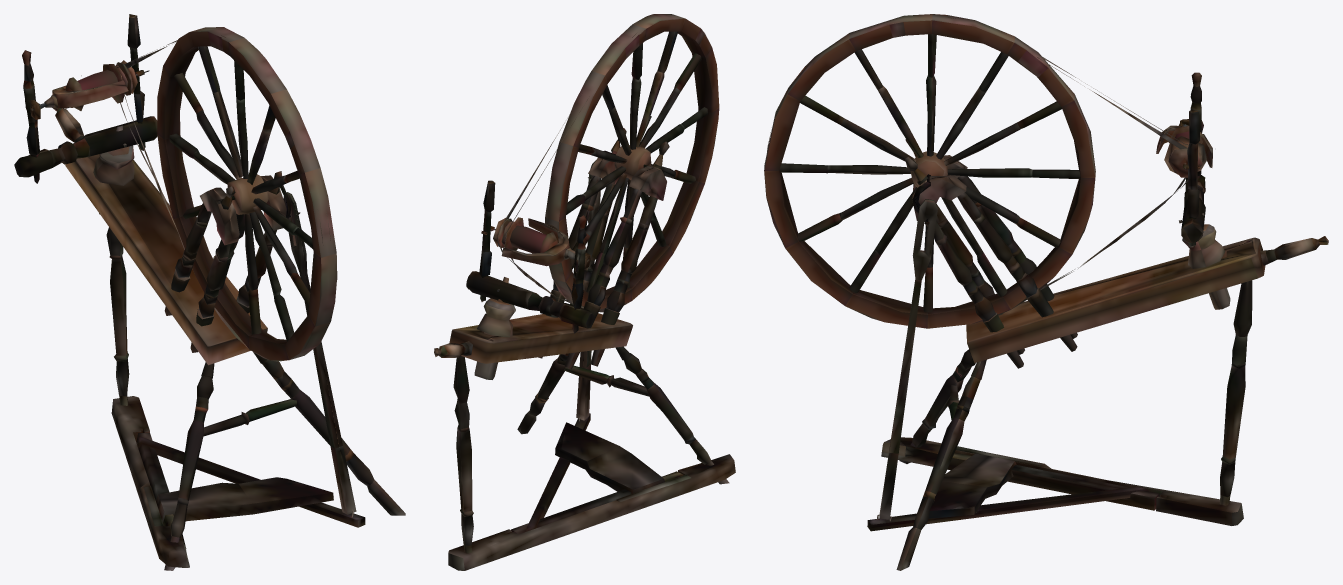
Rendered from design-spinning-wheel-01.glb.
The picture shows the model from 3 angles, left to right: view 1: azimuth 30°, elevation 25°; view 2: azimuth 150°, elevation 25°; view 3: azimuth 270°, elevation 25°; orthographic projection. The views are drawn at different scales.
Visible parts, largest first — view 1: spinning_wheel_01; view 2: spinning_wheel_01; view 3: spinning_wheel_01.
Part boxes in pixels (x1=…): spinning_wheel_01: x1=14, y1=14, x2=405, y2=570; spinning_wheel_01: x1=434, y1=14, x2=735, y2=570; spinning_wheel_01: x1=764, y1=14, x2=1328, y2=570.
Bounding box in the file's own units: 0.4893 × 0.9656 × 1.02.
Materials: 1 (1 with a texture image).
